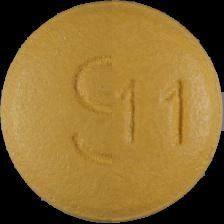68258-7056: (0, 0, 224, 224)
